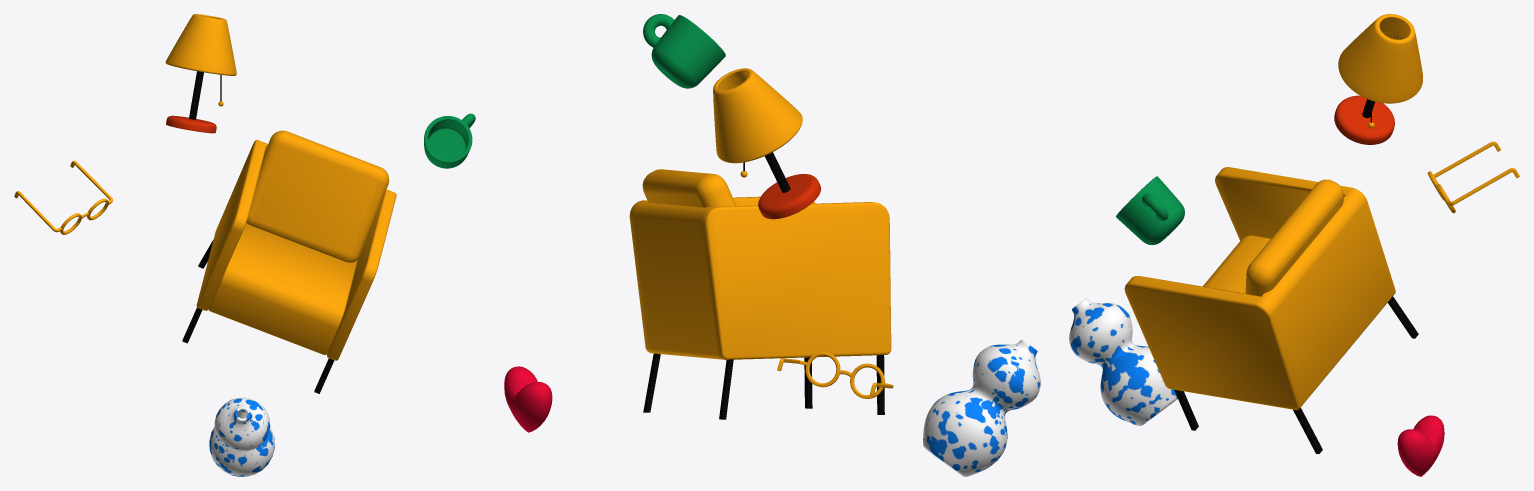
The model's file is plopchair.glb.
3 renders of one model, left to right at view 1: azimuth 30°, elevation 25°; view 2: azimuth 150°, elevation 25°; view 3: azimuth 270°, elevation 25°, orthographic. The views are drawn at different scales.
Parts seen in each view (by area): view 1: glasses_low1, vase; view 2: glasses_low1, vase; view 3: glasses_low1, vase.
Boxes of the visible parts, bbox=[...] form: glasses_low1: bbox=[14, 14, 475, 393]; vase: bbox=[209, 397, 274, 476]; glasses_low1: bbox=[504, 14, 893, 432]; vase: bbox=[923, 339, 1040, 476]; glasses_low1: bbox=[1116, 14, 1519, 476]; vase: bbox=[1069, 298, 1177, 425].
Bounding box in the file's own units: 0.2379 × 0.2614 × 0.2405.
10 materials, 1 textured.
